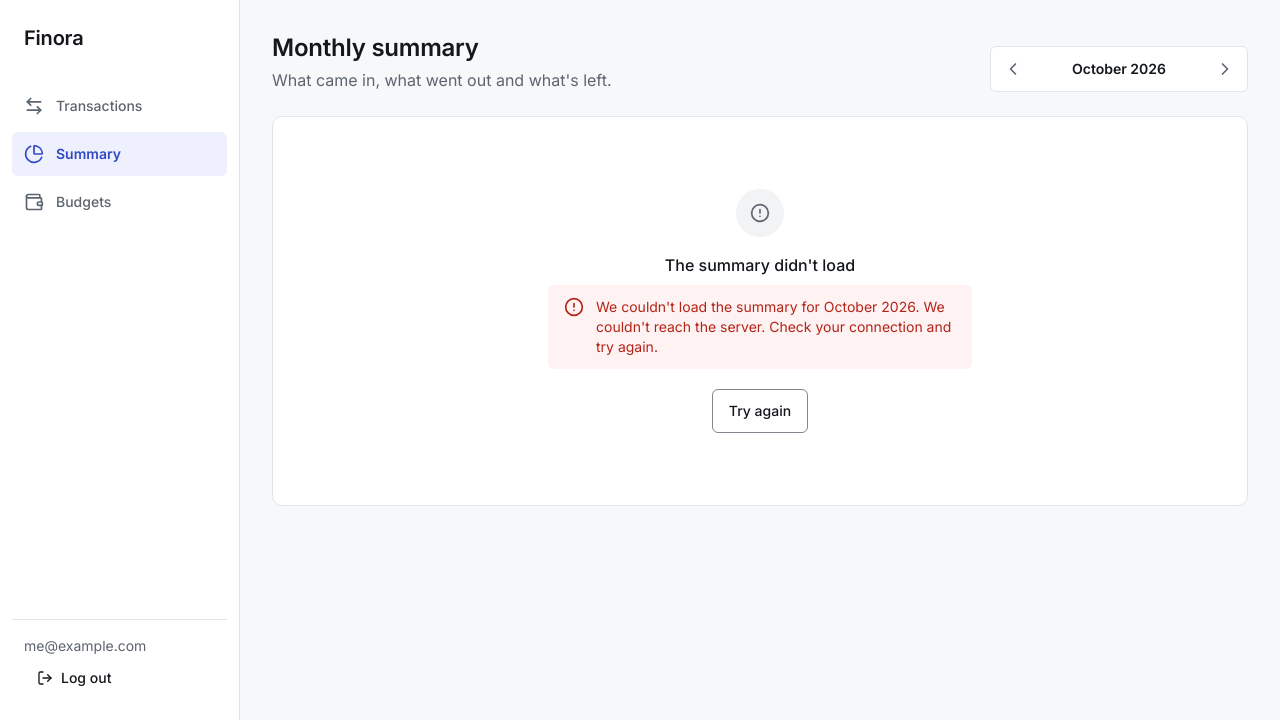
Test: summary cards (US-29) › shows an error with Try again, which loads the summary again
Expected: the message shows "We couldn't load the summary for October 2026. We couldn't reach the server. Check your connection and try again.", 596,298 -> 951,355
Click the button "Try again" at [760, 411], box 712,389 -> 808,433
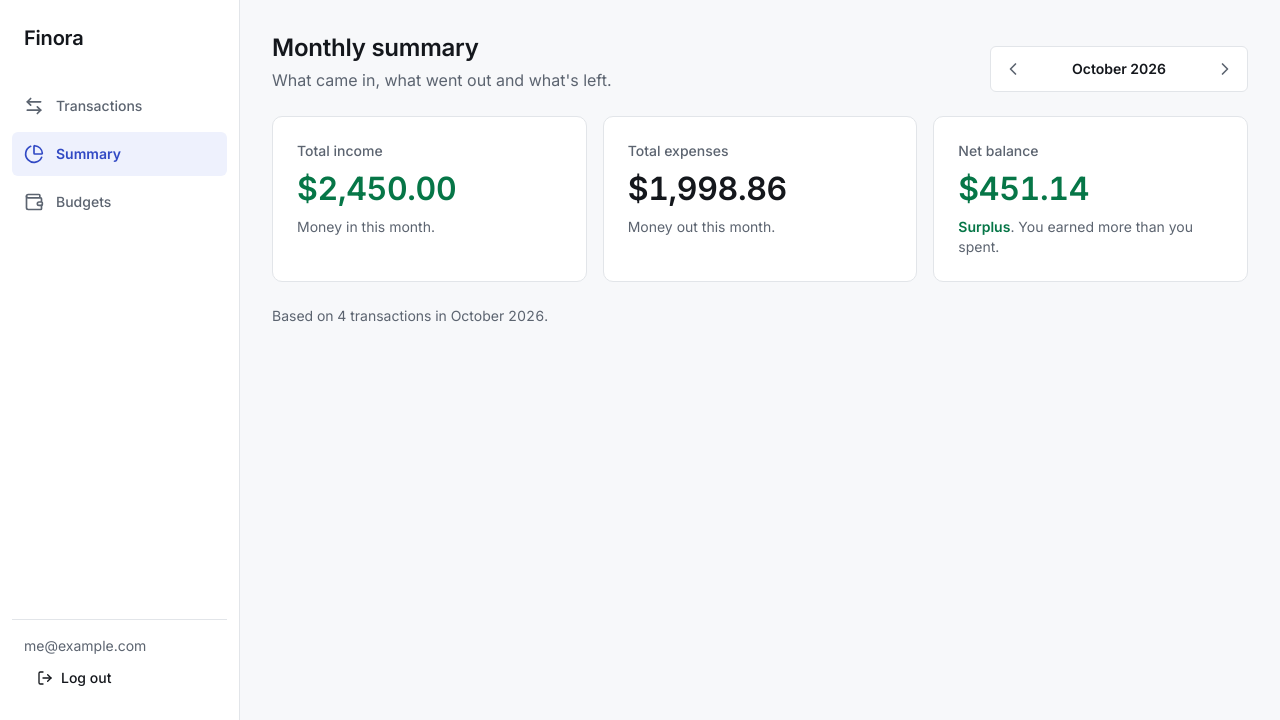
Now the text "Total income" is shown, box 297,142 -> 383,159
Now the message is gone
